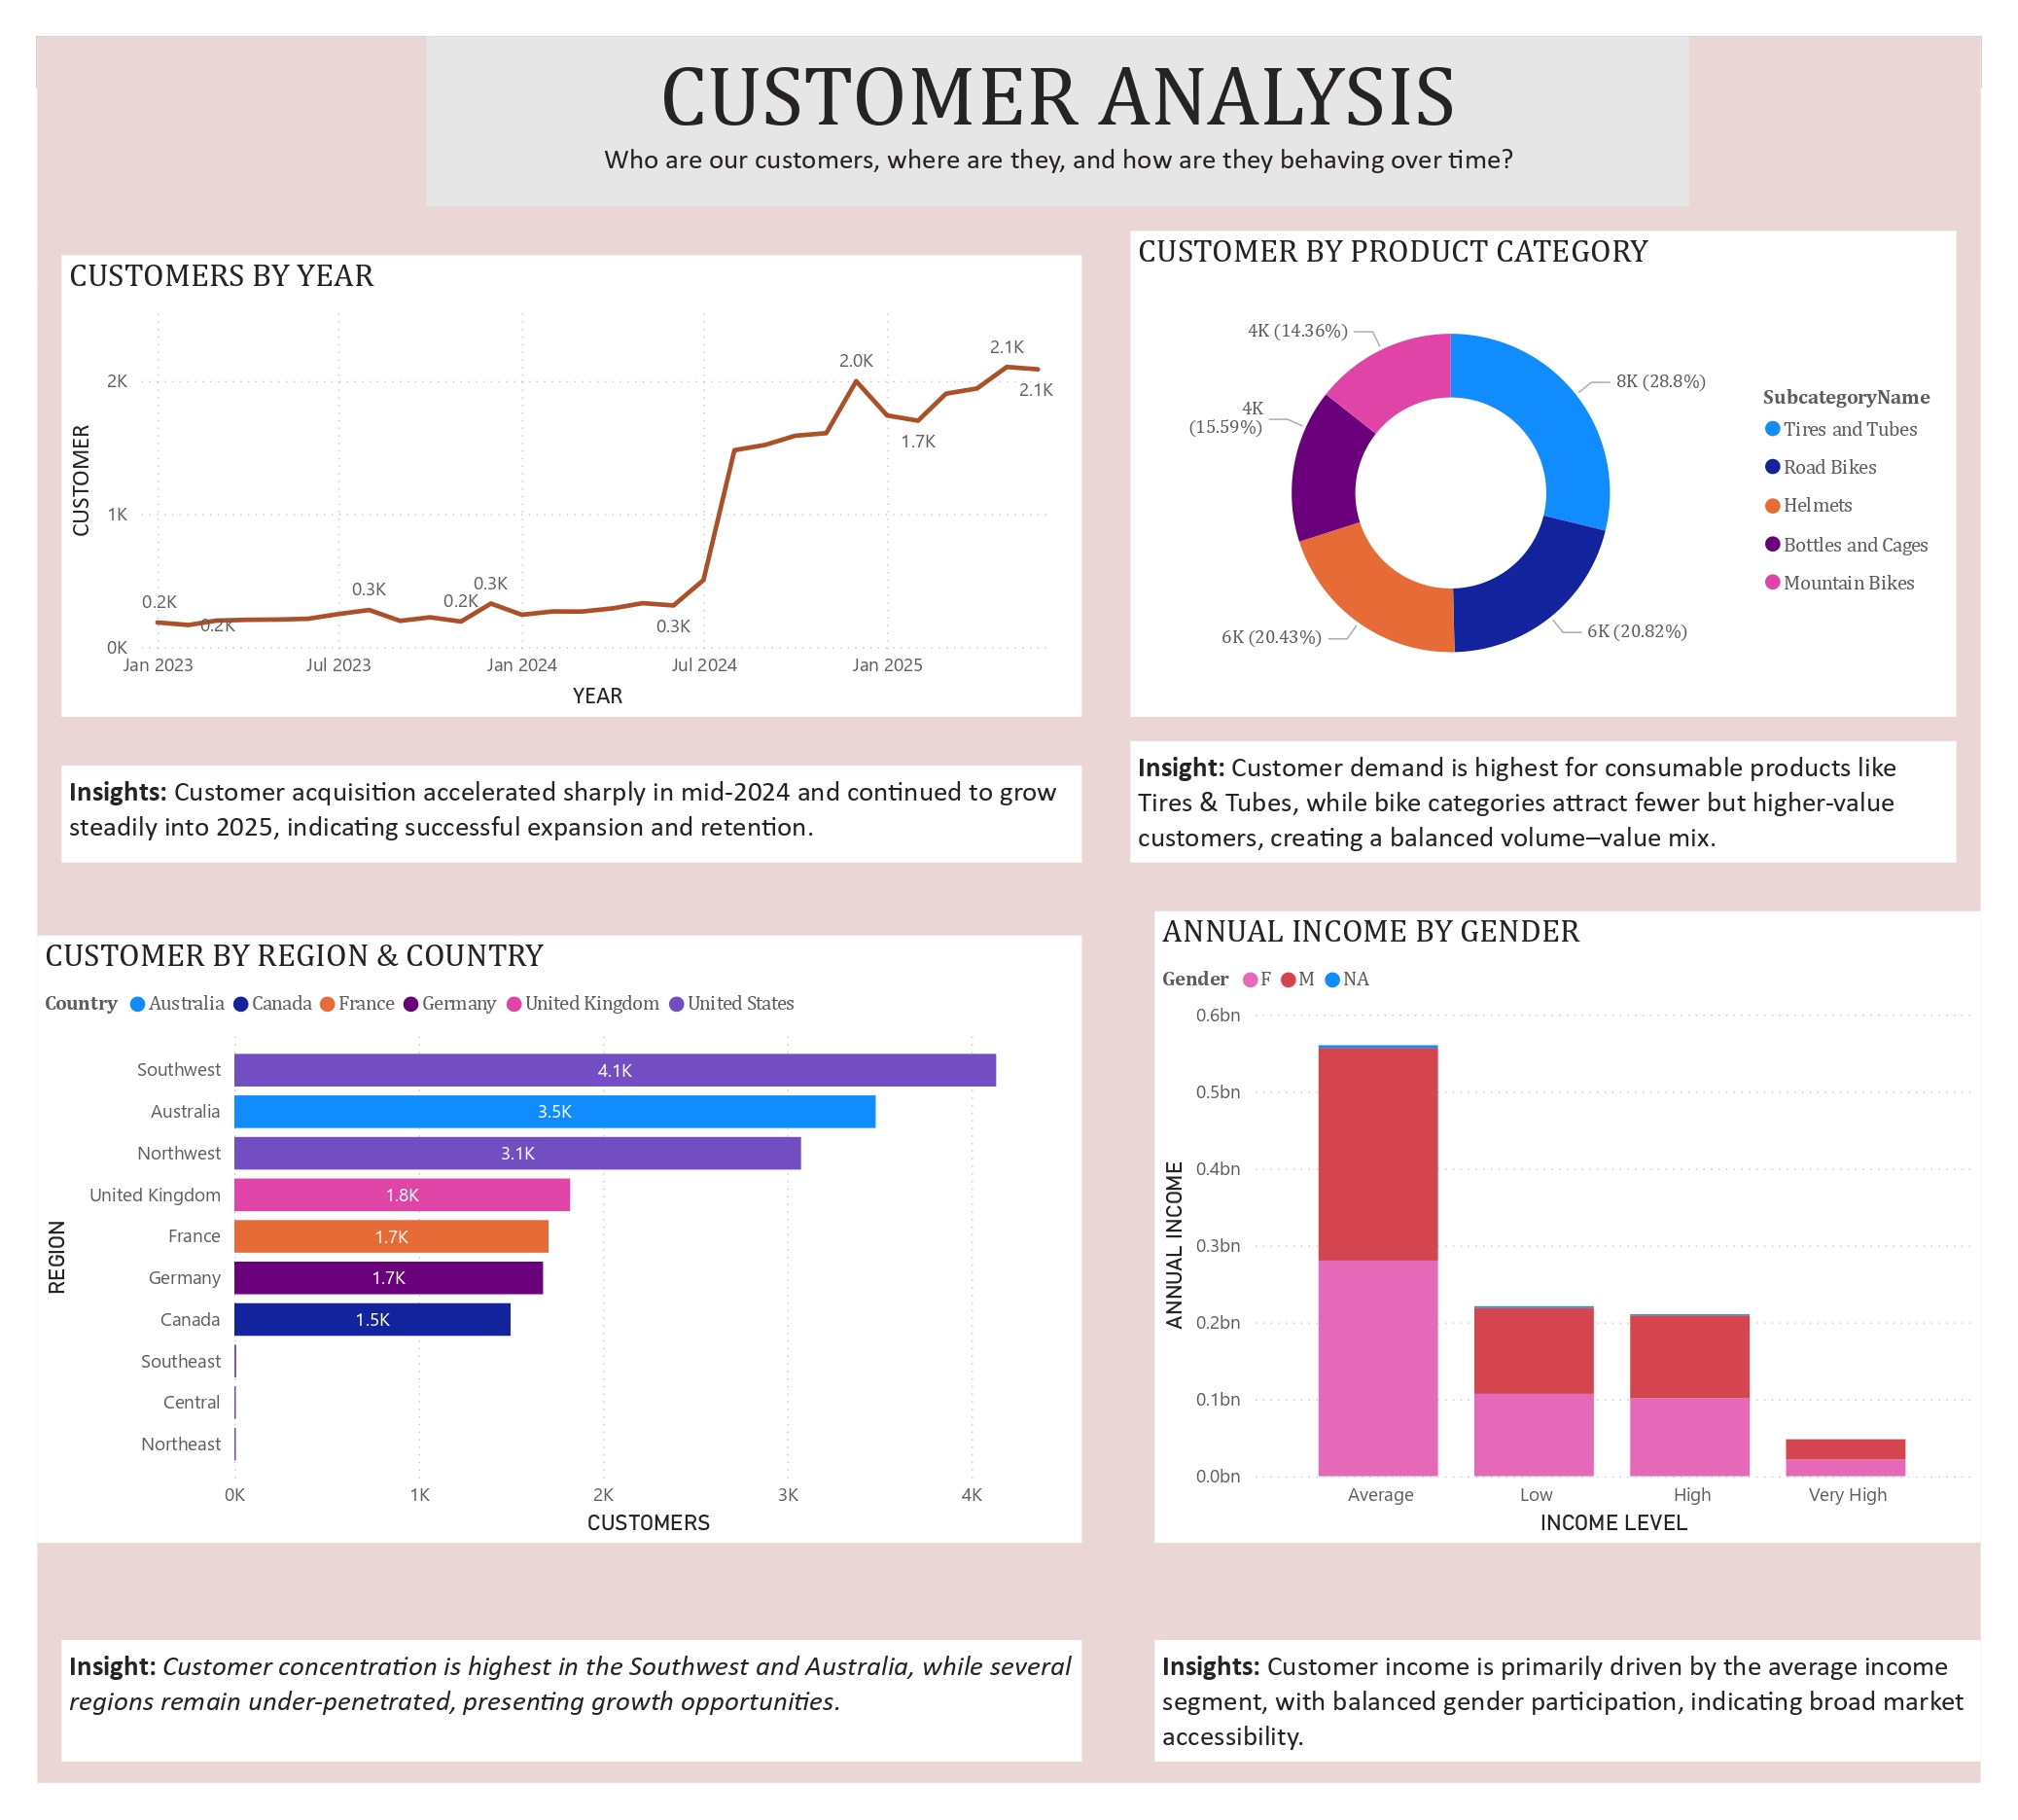

What the dashboard file says about the page in this screenshot:
{"tool":"powerbi","page":{"name":"Customer Analysis","canvas":[1280,1150],"ordinal":2},"visuals":[{"type":"textbox","box":[256,0,832,112],"z":0},{"type":"barChart","title":"CUSTOMER BY REGION & COUNTRY","fields":{"Y":["ALL MEASURES.Total Customers"],"Category":["Territory Lookup (1) csv.Region"],"Series":["Territory Lookup (1) csv.Country"]},"box":[0,592,688,400],"z":1000},{"type":"lineChart","title":"CUSTOMERS BY YEAR","fields":{"Y":["ALL MEASURES.Total Customers"],"Category":["Calendar Lookup (1) csv.Date.Variation.Date Hierarchy.Year","Calendar Lookup (1) csv.Date.Variation.Date Hierarchy.Month"]},"box":[16,144,672,304],"z":2000},{"type":"donutChart","title":"CUSTOMER BY PRODUCT CATEGORY","fields":{"Y":["ALL MEASURES.Total Customers"],"Category":["Product Subcategories Lookup.SubcategoryName"]},"box":[720,128,544,320],"z":3000},{"type":"columnChart","title":"ANNUAL INCOME BY GENDER","fields":{"Category":["Customer Lookup (1) - Copy.Income Level"],"Series":["Customer Lookup (1) - Copy.Gender"],"Y":["Sum(Customer Lookup (1) - Copy.AnnualIncome)"]},"box":[736,576,544,416],"z":4000},{"type":"textbox","box":[16,480,672,64],"z":5000},{"type":"textbox","box":[720,464,544,80],"z":6000},{"type":"textbox","box":[16,1056,672,80],"z":7000},{"type":"textbox","box":[736,1056,544,80],"z":8000},{"type":"textbox","box":[368,64,720,48],"z":9000}]}

Visuals, with their boxes on the page's 1280x1150 design canvas (x1, y1, x2, y2). These are canvas units, not pixel positions in the 2018x1820 screenshot, which may show the page scaled, cropped or inside an application window:
textbox: 256,0,1088,112
"CUSTOMER BY REGION & COUNTRY" barChart: 0,592,688,992
"CUSTOMERS BY YEAR" lineChart: 16,144,688,448
"CUSTOMER BY PRODUCT CATEGORY" donutChart: 720,128,1264,448
"ANNUAL INCOME BY GENDER" columnChart: 736,576,1280,992
textbox: 16,480,688,544
textbox: 720,464,1264,544
textbox: 16,1056,688,1136
textbox: 736,1056,1280,1136
textbox: 368,64,1088,112
